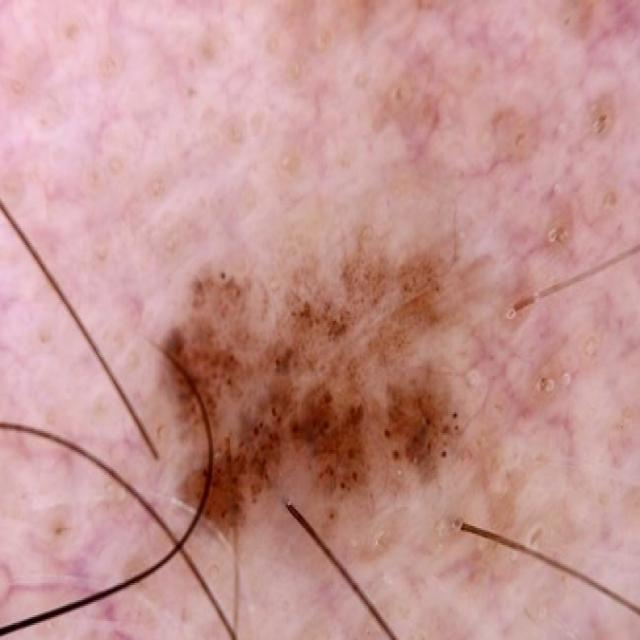Carcinoma: (157, 241, 505, 524)
